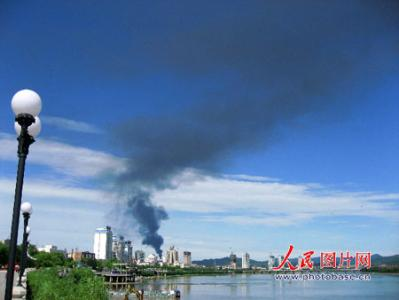smoke: (115, 120, 185, 255)
